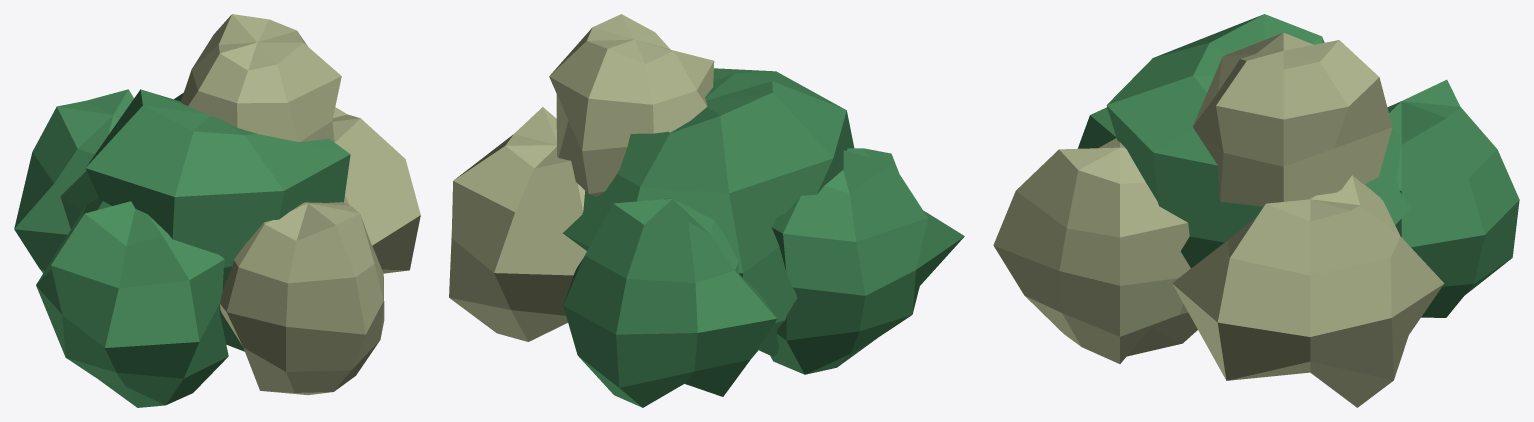
Rendered from bush.glb.
3 views of the same model, side by side, from view 1: azimuth 30°, elevation 25°; view 2: azimuth 150°, elevation 25°; view 3: azimuth 270°, elevation 25° (orthographic). The views are drawn at different scales.
Visible parts, largest first — view 1: bush; view 2: bush; view 3: bush.
Part boxes in pixels (box(x1,y1,x2,y2)): bush: box(14, 14, 420, 407); bush: box(449, 14, 964, 407); bush: box(993, 14, 1519, 407).
Bounding box in the file's own units: 1.34 × 0.9875 × 1.38.
